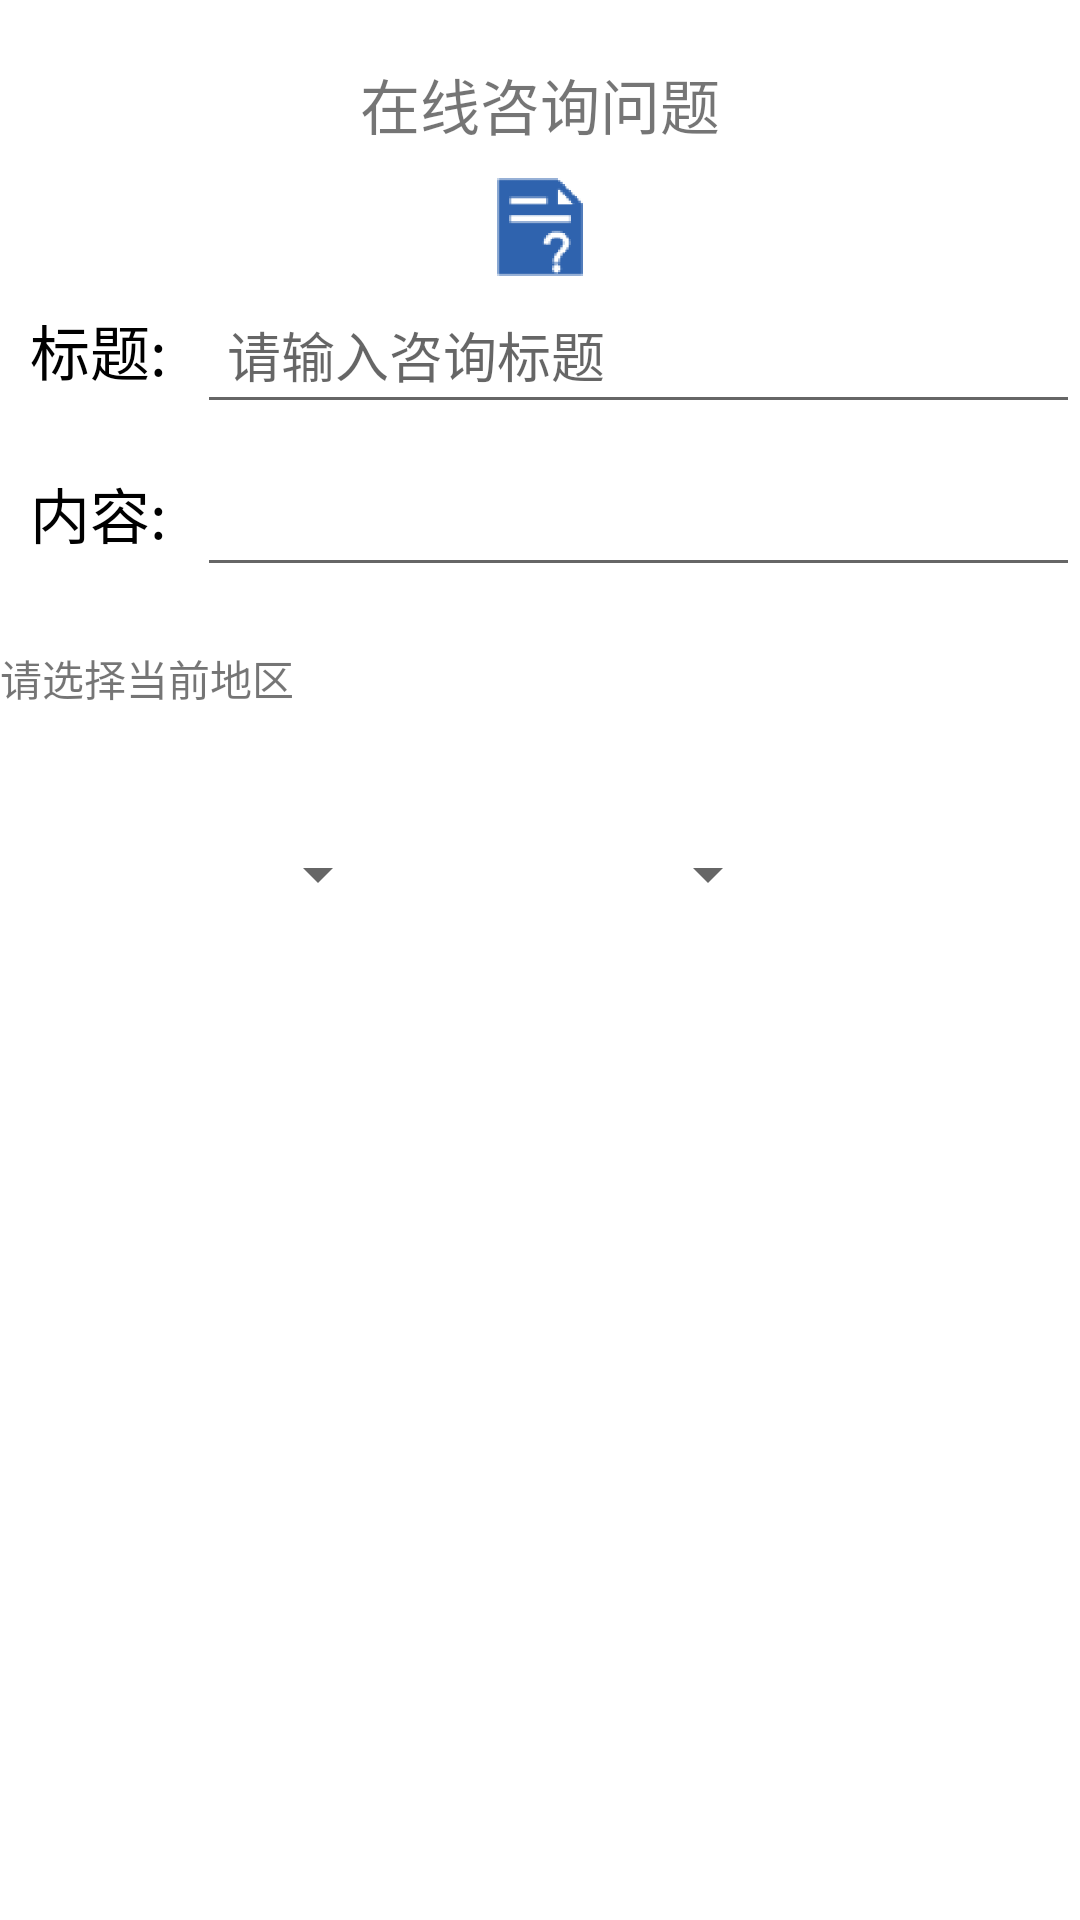

Screen size 1080x1920. Icon name, then its box in pixels as (x1, y1, x2, y2):
question: (497, 178, 583, 276)
